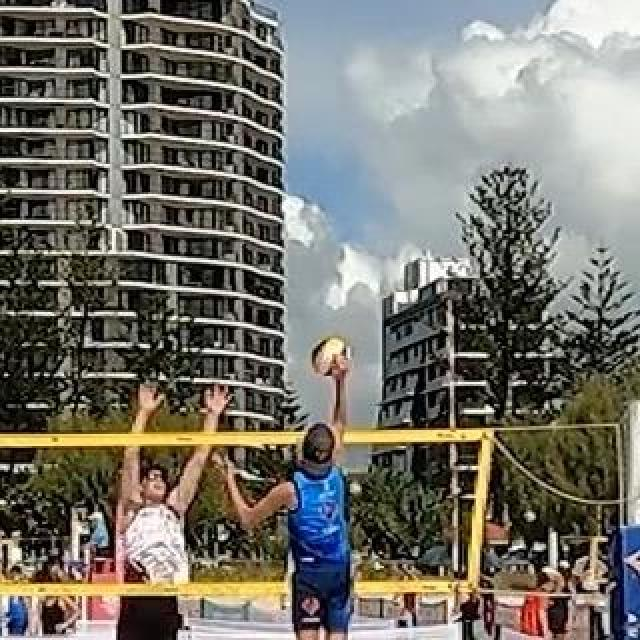volleyball: (312, 336, 354, 378)
